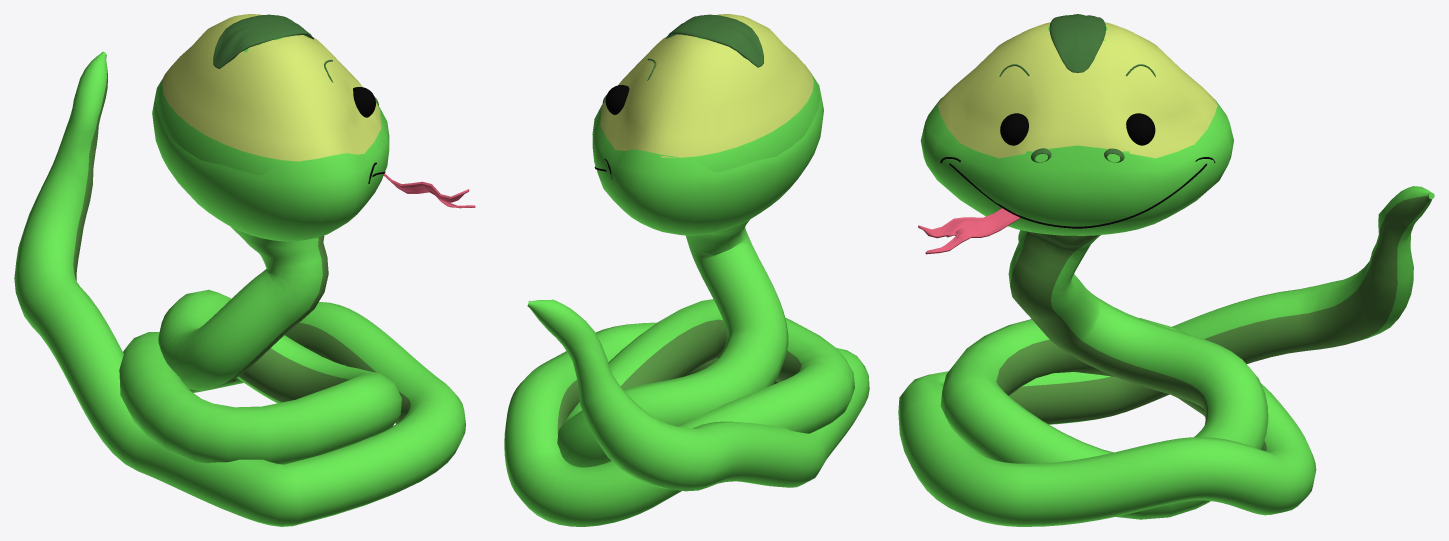
The model's file is SERPENT_Final.fbx.
3 views of the same model, side by side, from view 1: azimuth 30°, elevation 25°; view 2: azimuth 150°, elevation 25°; view 3: azimuth 270°, elevation 25° (orthographic). The views are drawn at different scales.
Visible parts, largest first — view 1: CourbeBézier.003_CourbeBézier.004, Sphère, Sphère.001, Sphère.004_Sphère.005, Cube_Cube.001, Sphère.002; view 2: CourbeBézier.003_CourbeBézier.004, Sphère, Sphère.001, Sphère.004_Sphère.005, Sphère.002; view 3: CourbeBézier.003_CourbeBézier.004, Sphère, Sphère.001, Sphère.004_Sphère.005, Cube_Cube.001, Sphère.002, CourbeBézier_CourbeBézier.001.
Boxes of the visible parts, bbox=[...] form: CourbeBézier.003_CourbeBézier.004: bbox=[14, 51, 465, 526]; Sphère: bbox=[155, 14, 381, 241]; Sphère.001: bbox=[152, 79, 389, 240]; Sphère.004_Sphère.005: bbox=[213, 14, 313, 68]; Cube_Cube.001: bbox=[383, 173, 475, 208]; Sphère.002: bbox=[353, 87, 375, 117]; CourbeBézier.003_CourbeBézier.004: bbox=[504, 220, 869, 526]; Sphère: bbox=[600, 14, 819, 235]; Sphère.001: bbox=[592, 76, 823, 234]; Sphère.004_Sphère.005: bbox=[666, 14, 763, 67]; Sphère.002: bbox=[605, 85, 629, 114]; CourbeBézier.003_CourbeBézier.004: bbox=[898, 186, 1434, 526]; Sphère: bbox=[937, 22, 1217, 235]; Sphère.001: bbox=[920, 97, 1233, 229]; Sphère.004_Sphère.005: bbox=[1049, 14, 1105, 72]; Cube_Cube.001: bbox=[918, 208, 1020, 254]; Sphère.002: bbox=[1000, 113, 1155, 145]; CourbeBézier_CourbeBézier.001: bbox=[949, 163, 1206, 228].
Bounding box in the file's own units: 718 × 1041 × 1116.
